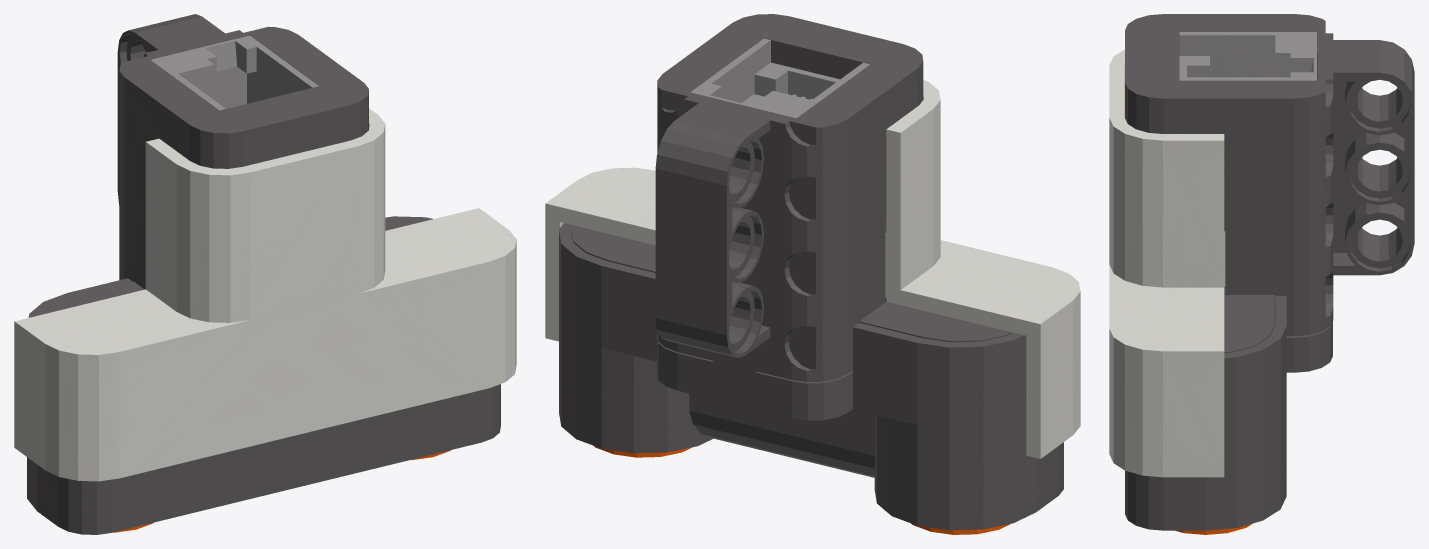
3 renders of one model, left to right at view 1: azimuth 30°, elevation 25°; view 2: azimuth 150°, elevation 25°; view 3: azimuth 270°, elevation 25°, orthographic. The views are drawn at different scales.
Parts seen in each view (by area): view 1: node; view 2: node; view 3: node.
Boxes of the visible parts, bbox=[...] form: node: bbox=[14, 14, 516, 534]; node: bbox=[545, 14, 1080, 534]; node: bbox=[1109, 14, 1414, 534].
Bounding box in the file's own units: 138 × 108 × 78.5.
1 material, 1 textured.
